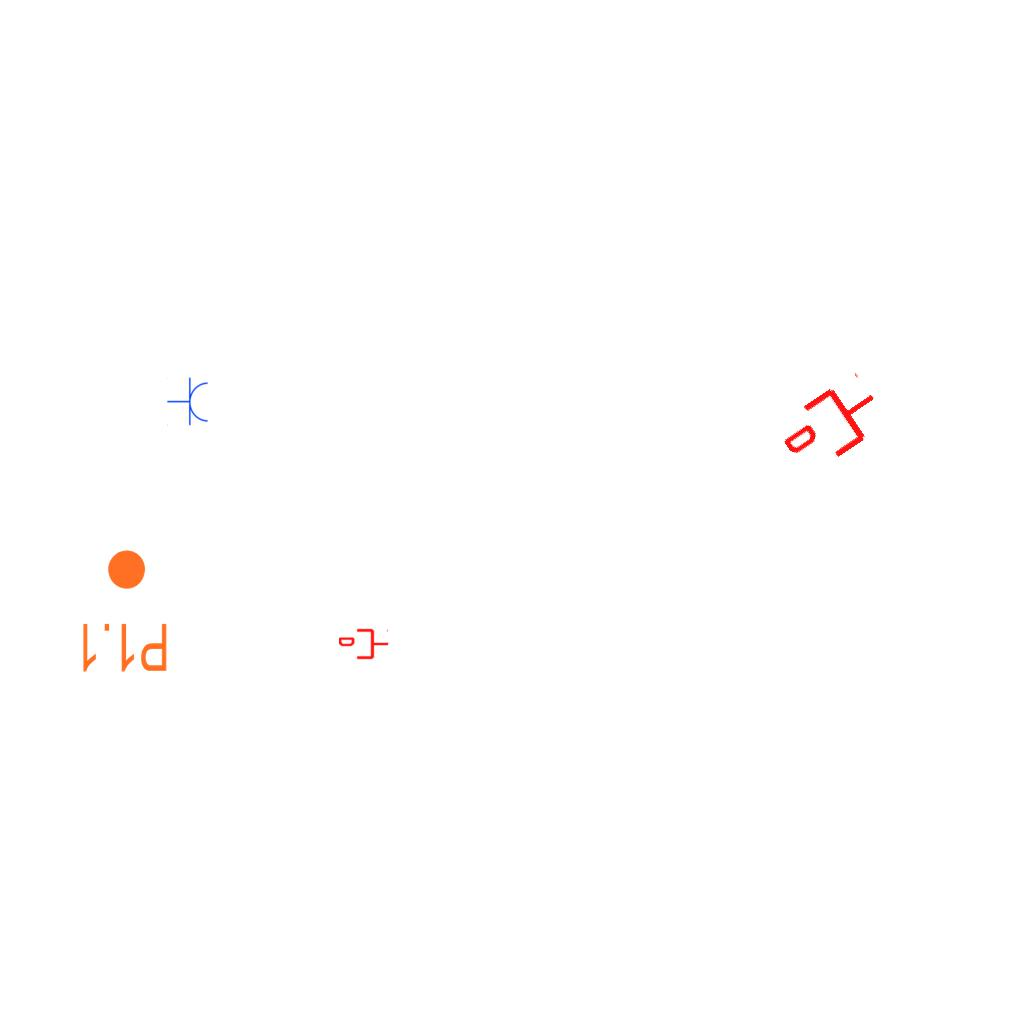Datenanschluss_einfach: (771, 367, 894, 481), (339, 627, 389, 661)
Downlight_LED_Einbauleuchten_Flur: (77, 547, 170, 675)
Schukosteckdose_einfach: (167, 377, 210, 427)
